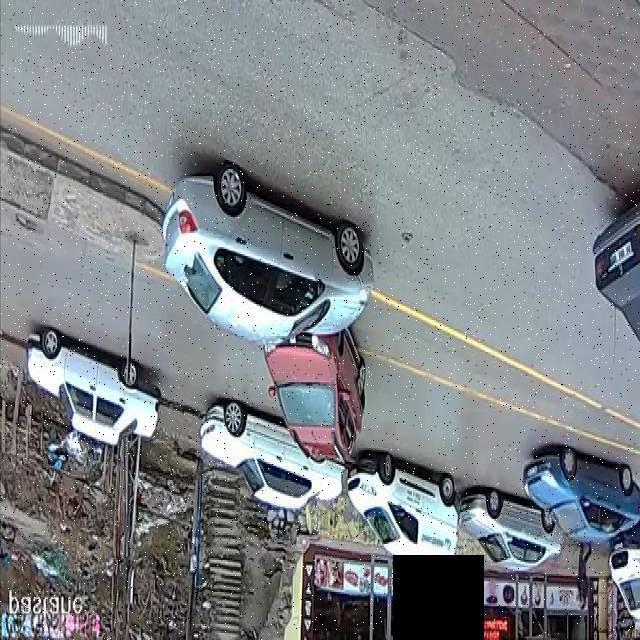vehicle: (158, 160, 396, 472)
